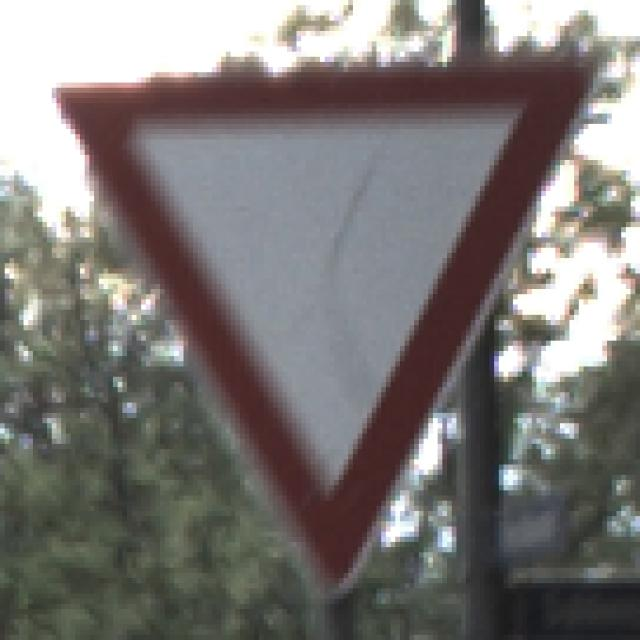Give Way: (53, 53, 589, 590)
